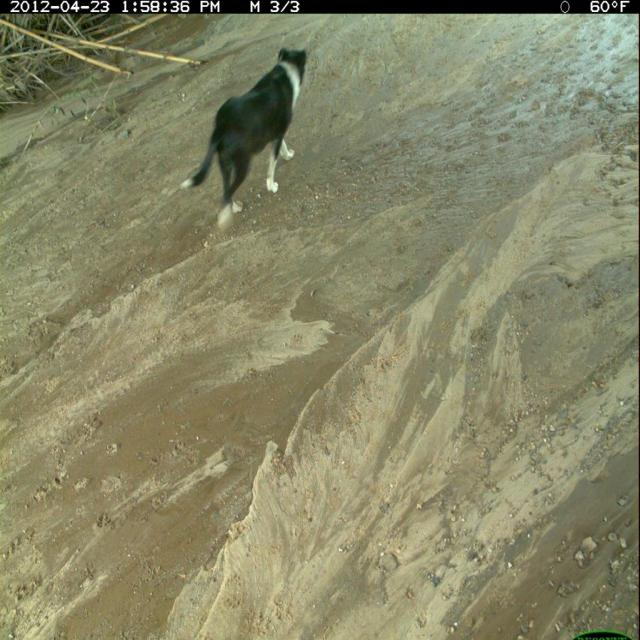dog: (177, 41, 314, 236)
